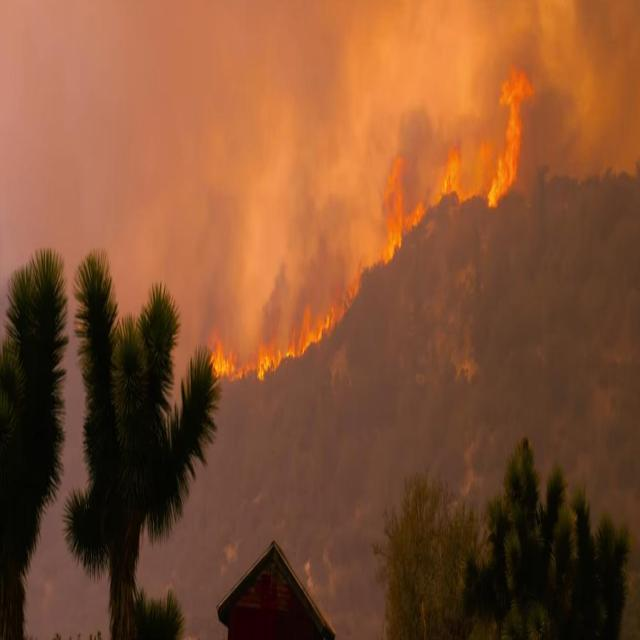Fire: (192, 278, 360, 388), (377, 148, 479, 268), (482, 58, 536, 217)
